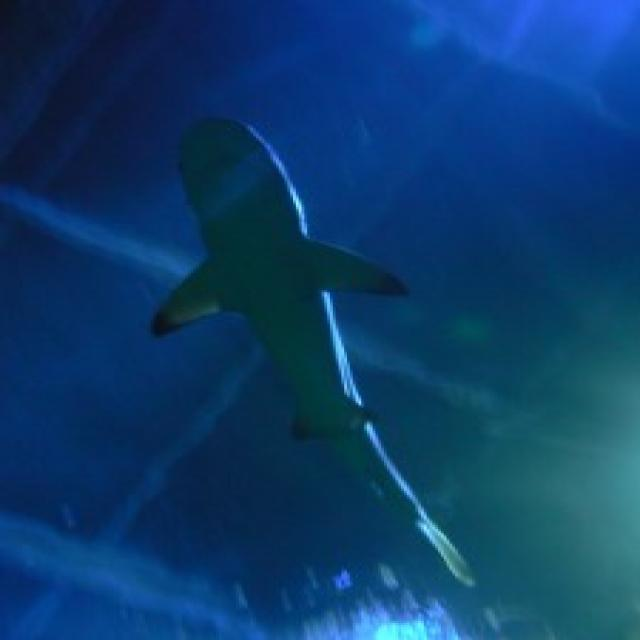Shark: (143, 95, 512, 601)
